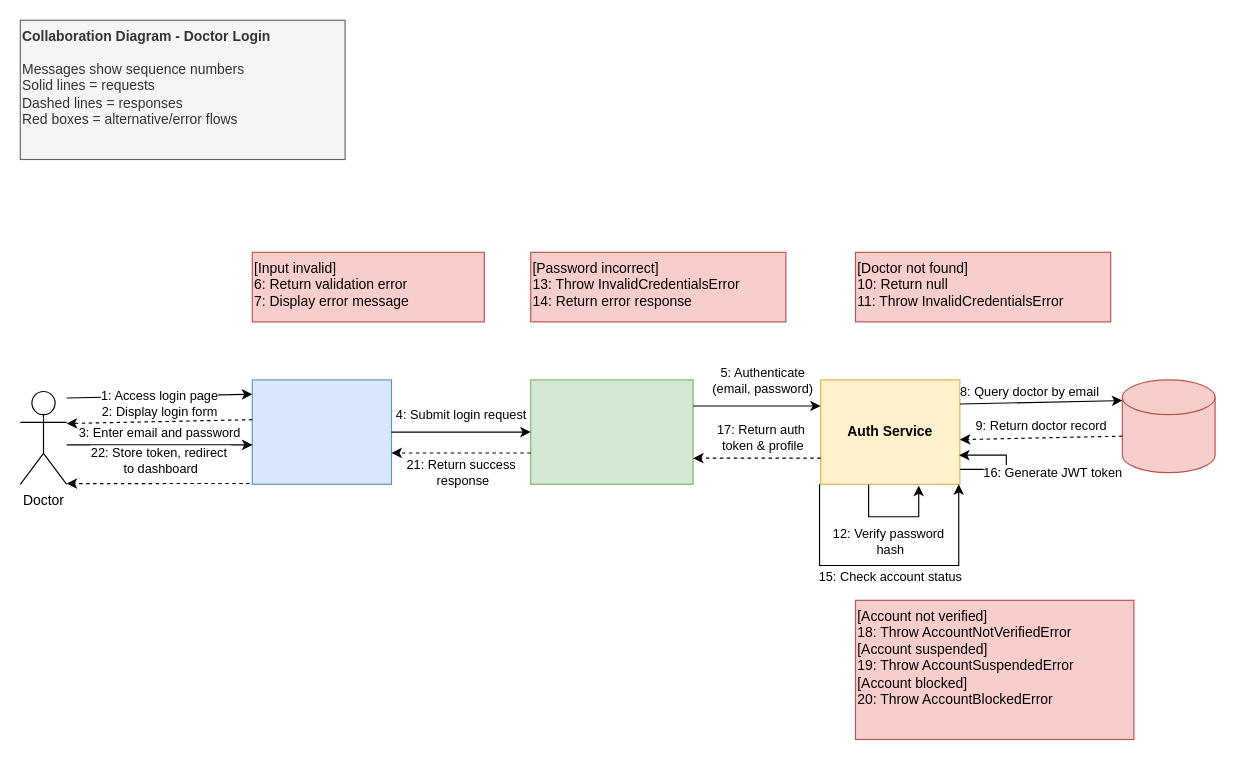
Image size: 1235x760. Some labels were removed from this diagram. The shapes that lost their labels are listed below. From the top down, each one's box as (x1, y1, x2, y2) in pixels, then its label:
(251, 379, 392, 484): Login UI
(530, 379, 693, 484): Auth Controller
(1121, 379, 1215, 473): Database
